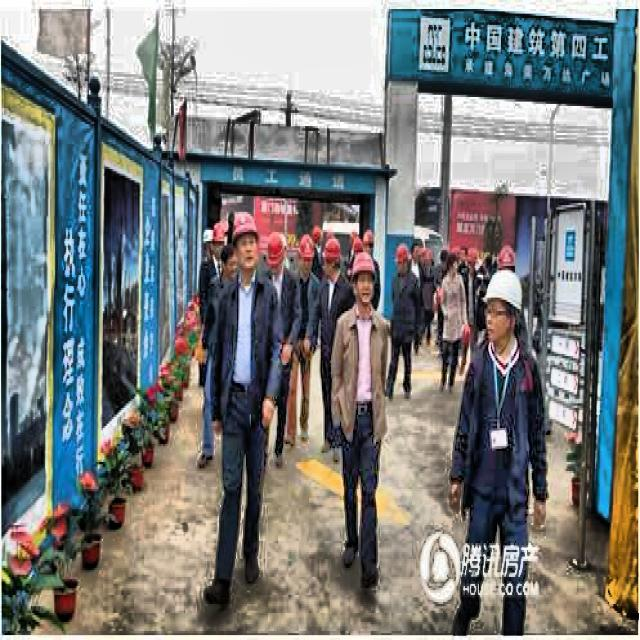helmet: (483, 264, 523, 342), (348, 248, 378, 309), (233, 212, 259, 275), (261, 228, 286, 282), (323, 236, 344, 282), (296, 232, 314, 282), (394, 241, 412, 275), (212, 223, 226, 264)
